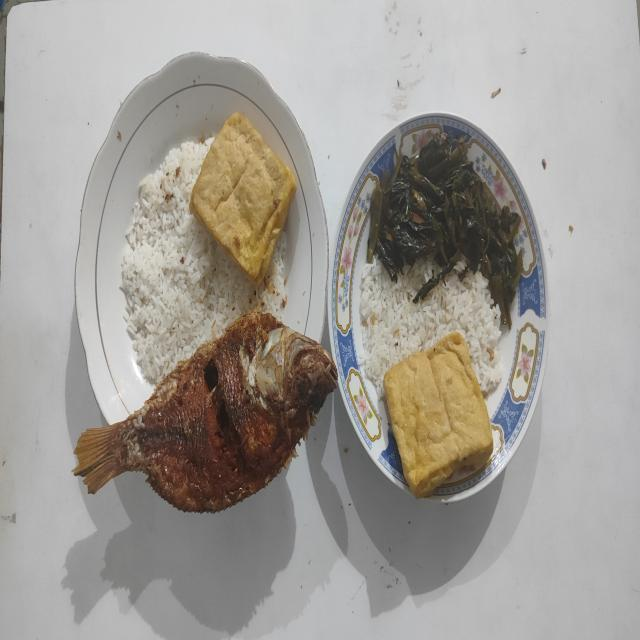ikan_mujair: (74, 311, 338, 512)
nasi_putih: (120, 140, 288, 384), (360, 256, 501, 396)
tahu_goreng: (190, 113, 296, 283), (383, 333, 492, 498)
tumis_kangkung: (368, 126, 522, 328)
